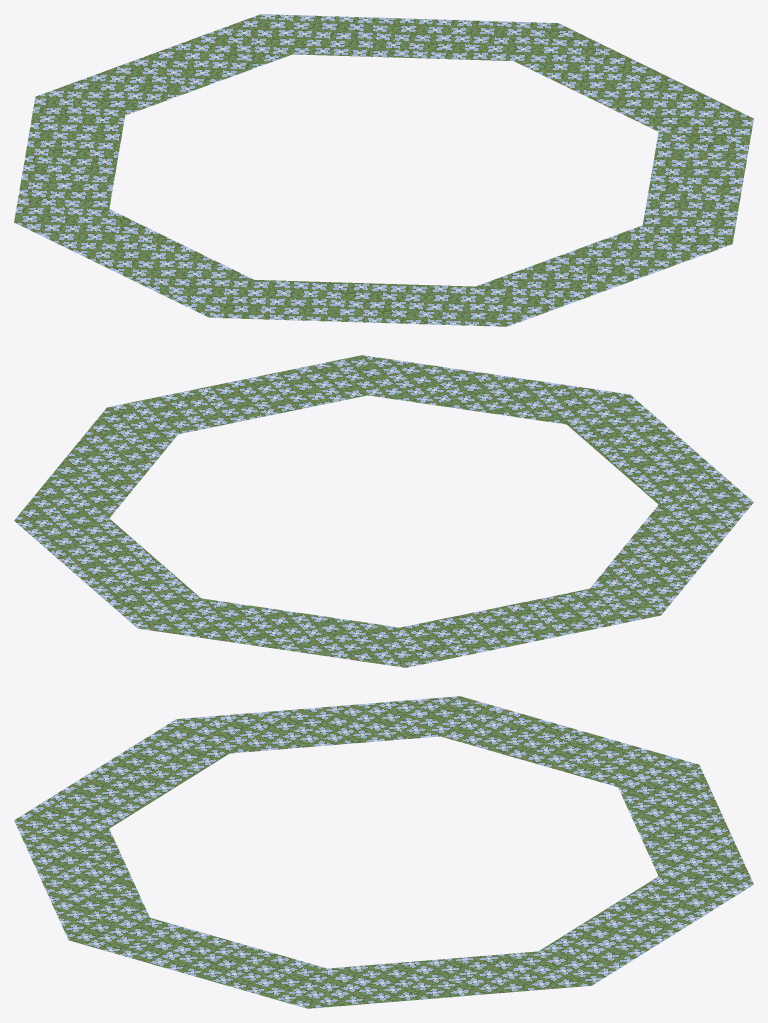
Rendered from kd_stage_136599_18_8.glb.
The picture shows the model from 3 angles, top to bottom: view 1: azimuth 30°, elevation 25°; view 2: azimuth 150°, elevation 25°; view 3: azimuth 270°, elevation 25°; orthographic projection. The views are drawn at different scales.
Visible parts, largest first — view 1: kd_stage_136599_18_8; view 2: kd_stage_136599_18_8; view 3: kd_stage_136599_18_8.
Part boxes in pixels (left/top/right/bottom): kd_stage_136599_18_8: left=14, top=14, right=753, bottom=326; kd_stage_136599_18_8: left=14, top=355, right=753, bottom=667; kd_stage_136599_18_8: left=14, top=696, right=753, bottom=1008.
Size of the model in its own units: 4.47 by 0 by 4.47.
Materials: 1 (1 with a texture image).
